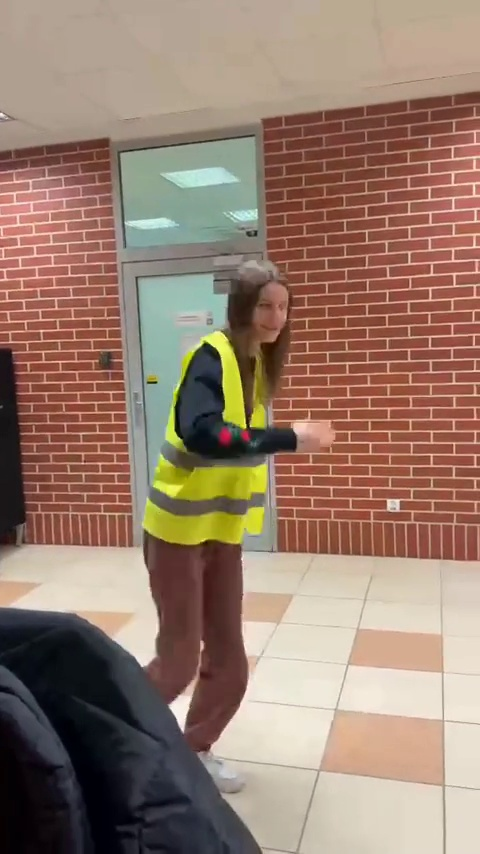vest: (139, 262, 307, 782)
